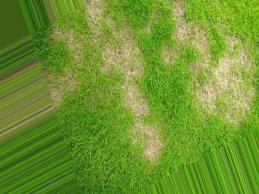patch: (116, 53, 141, 90), (220, 62, 244, 94), (222, 99, 240, 112), (51, 80, 70, 91), (207, 78, 220, 91), (105, 53, 115, 66), (136, 99, 143, 114)
